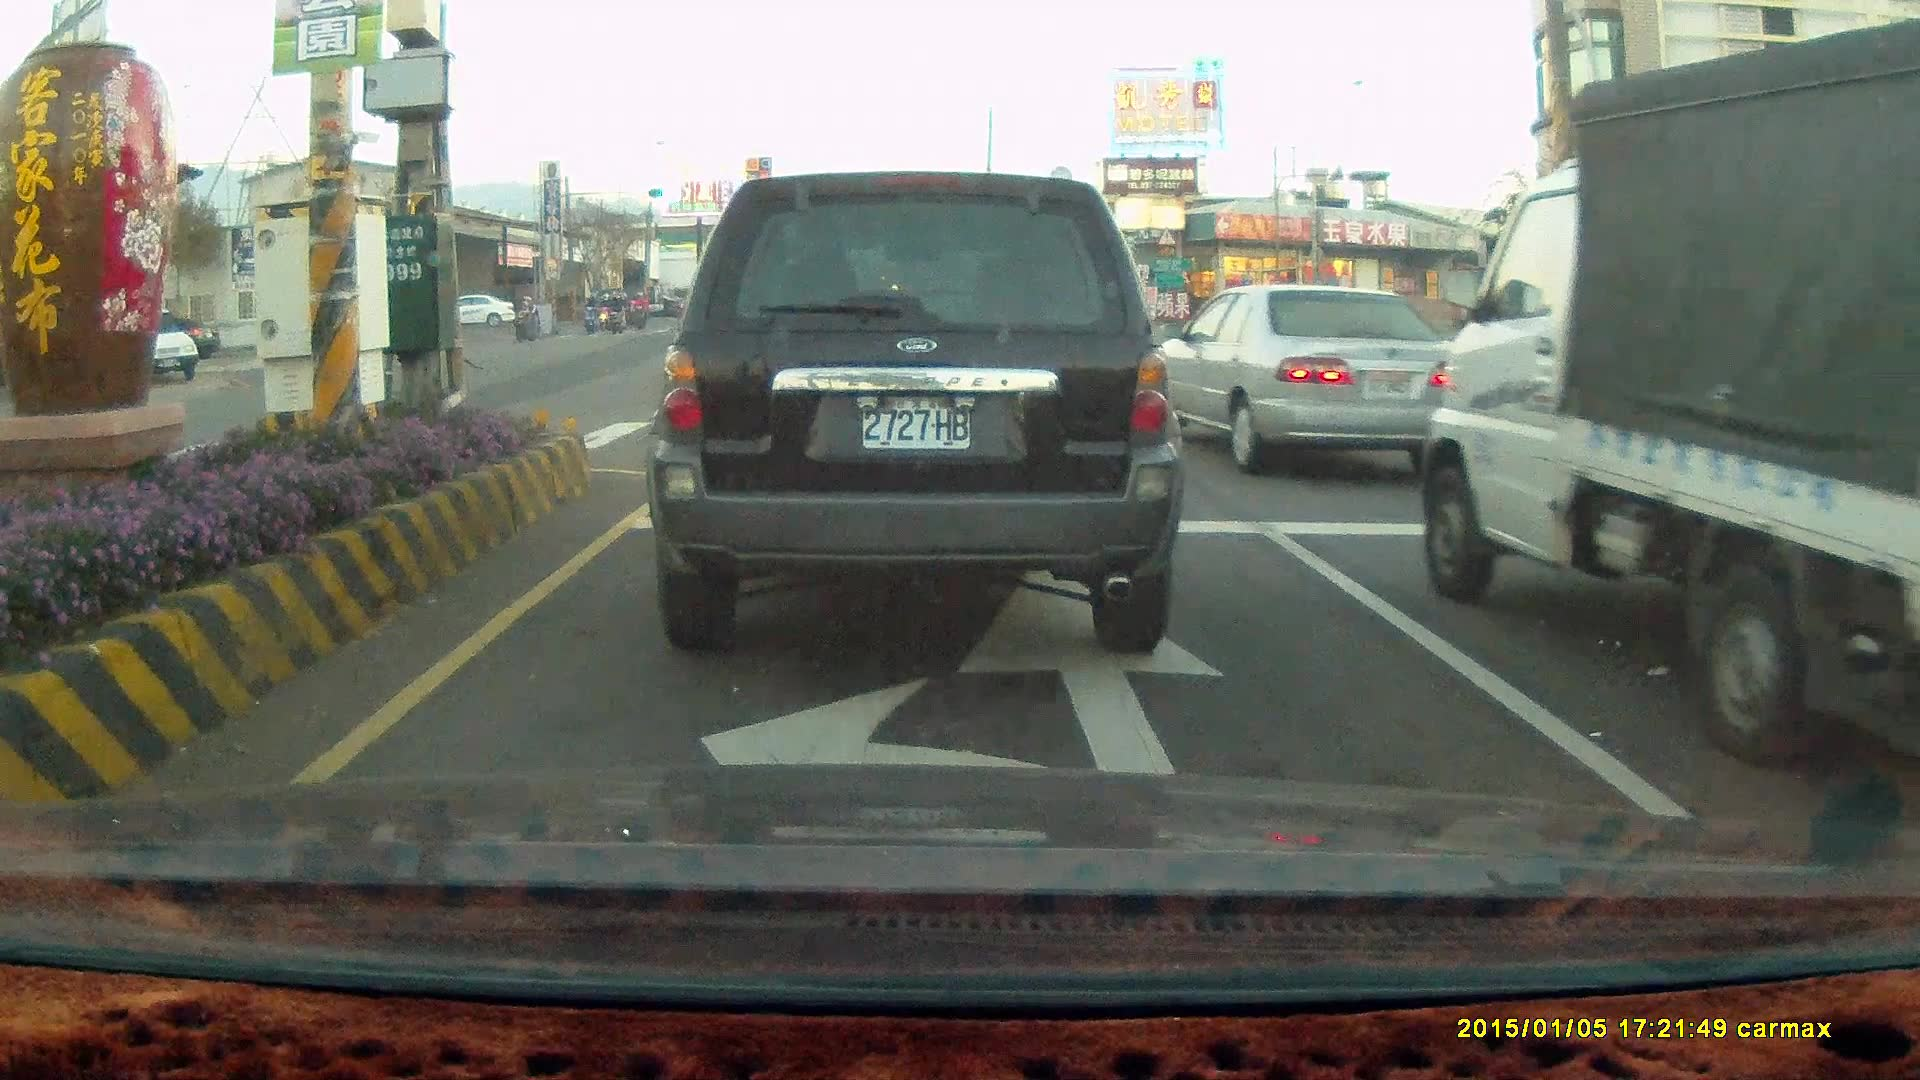rider: (507, 294, 539, 342), (606, 289, 632, 338), (580, 291, 601, 337), (585, 294, 607, 334), (629, 289, 650, 329)
vehicle: (1420, 16, 1920, 773), (642, 168, 1182, 653), (1146, 280, 1475, 474), (1136, 287, 1456, 472), (1684, 283, 1841, 372), (112, 309, 200, 389), (448, 297, 515, 329)
